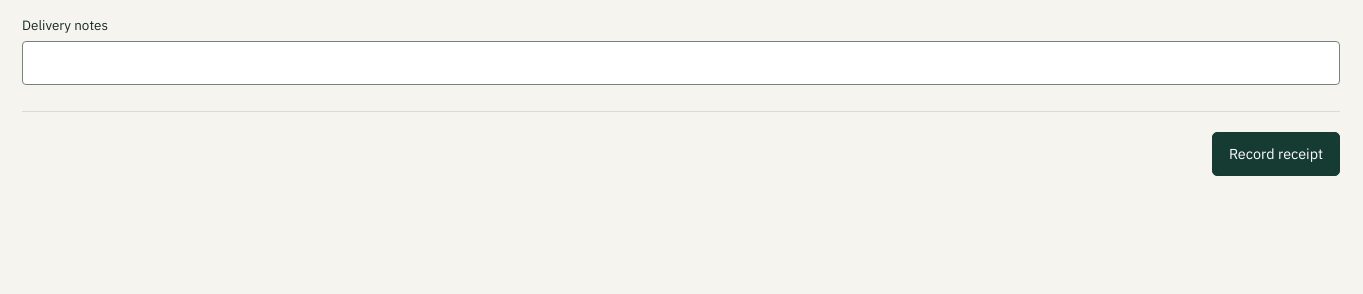
Test: form failure recovery › keeps entered values and enables retry after a failed mutation
The width and height of the screenshot is (1363, 294).
Later steps or results of the test are not shown.
Type "Gate check complete" into the field labelled "Delivery notes". click: (681, 63)
box: [22,41,1340,85]
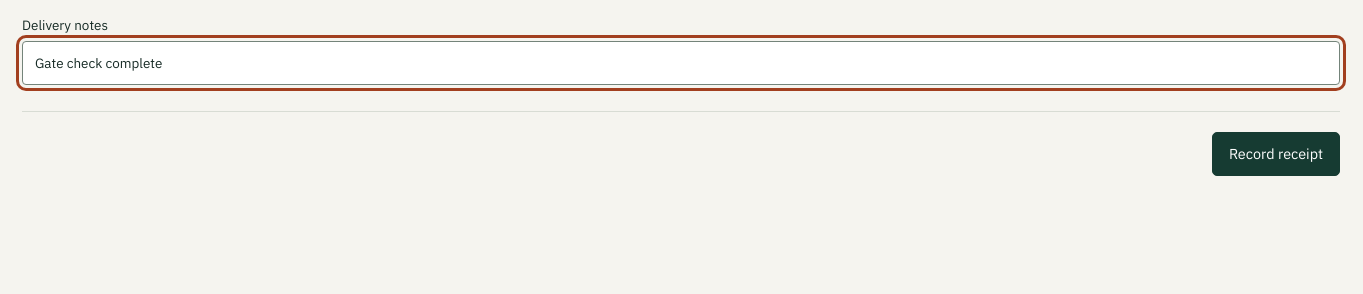
Click the button "Record receipt". click: (1276, 154)
box: [1212,132,1340,176]
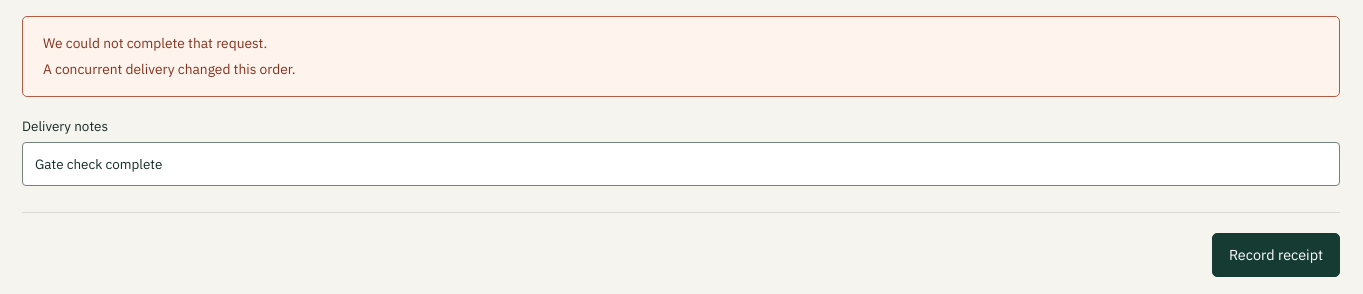
expect the button "Record receipt" is enabled: met, box [1212,233,1340,277]
expect the message shows "A concurrent delivery changed this order.": met, box [43,60,296,78]
